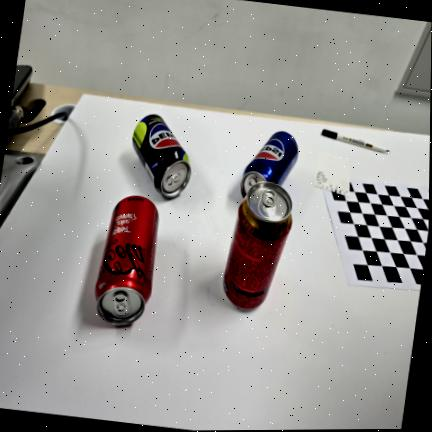can_coke_decaf: (223, 182, 291, 309)
can_coke_zero: (95, 196, 158, 325)
can_pepsi: (240, 131, 298, 197)
can_pepsi_zero: (132, 114, 190, 197)
